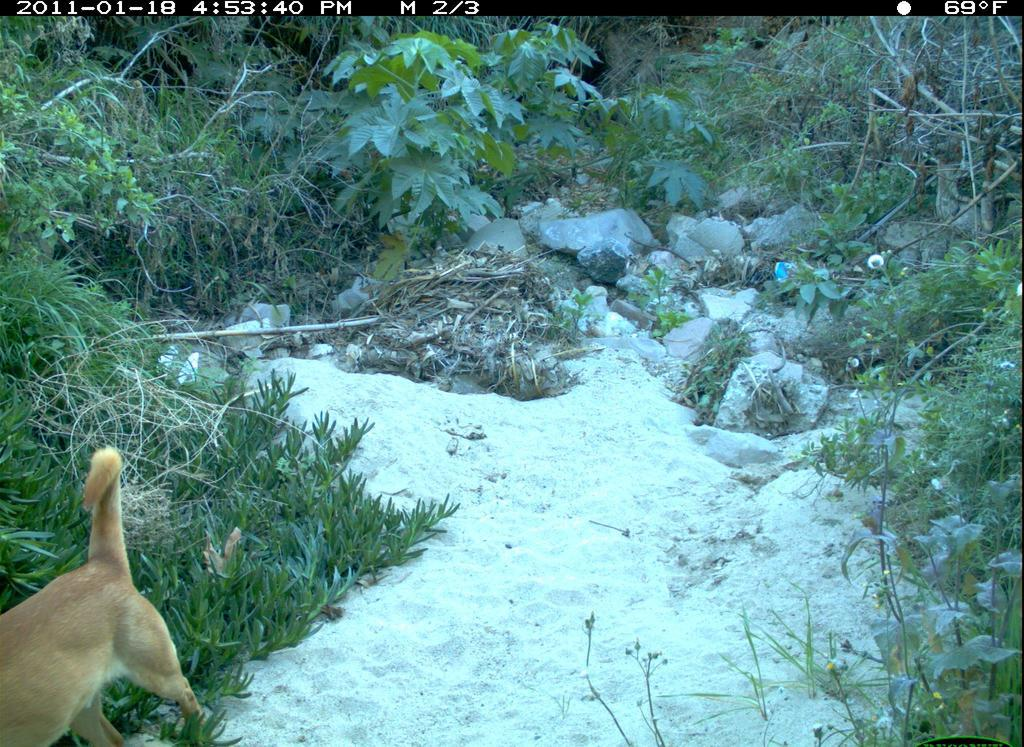dog: (4, 442, 223, 735)
